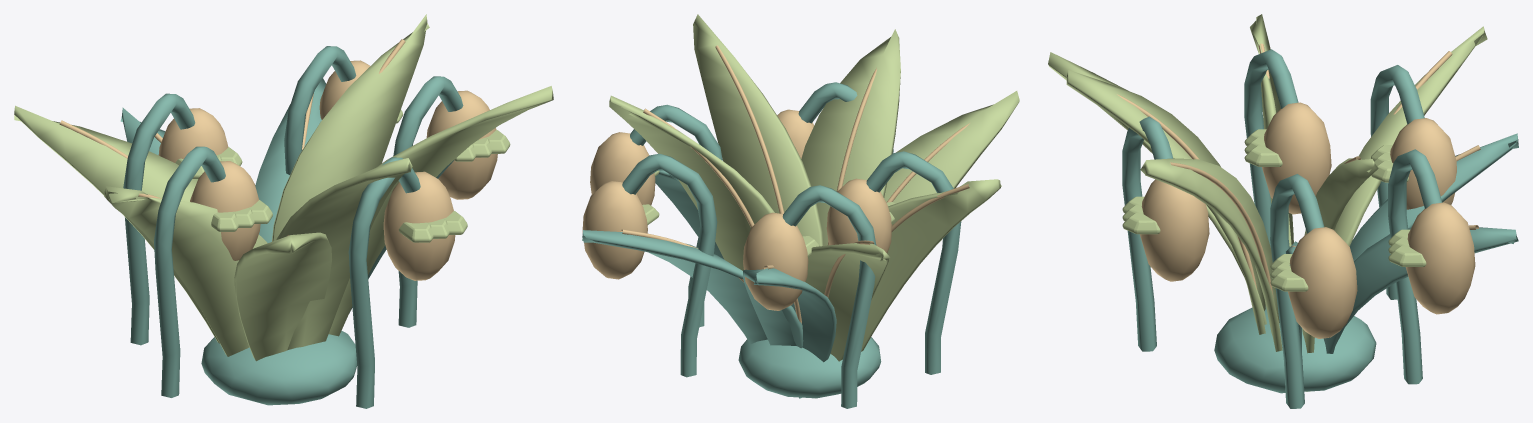
The model's file is bio_mist_leaf_08_far.glb.
3 views of the same model, side by side, from view 1: azimuth 30°, elevation 25°; view 2: azimuth 150°, elevation 25°; view 3: azimuth 270°, elevation 25° (orthographic). The views are drawn at different scales.
Visible parts, largest first — view 1: Cupped condensate leaf.008, Cupped condensate leaf.007, Cupped condensate leaf.004, Root rosette, Cupped condensate leaf.002, Cupped condensate leaf.001, Arched fruit stem.004, Cupped condensate leaf.005, Pendant spore capsule.002, Arched fruit stem.002, Arched fruit stem.001, Pendant spore capsule.004 (+10 smaller); view 2: Cupped condensate leaf.005, Cupped condensate leaf.002, Cupped condensate leaf.008, Cupped condensate leaf.004, Cupped condensate leaf.007, Root rosette, Cupped condensate leaf.003, Arched fruit stem.003, Arched fruit stem.001, Cupped condensate leaf.006, Pendant spore capsule.001, Arched fruit stem.004 (+13 smaller); view 3: Root rosette, Pendant spore capsule, Pendant spore capsule.003, Cupped condensate leaf.005, Pendant spore capsule.002, Cupped condensate leaf.002, Arched fruit stem, Pendant spore capsule.004, Arched fruit stem.003, Arched fruit stem.002, Cupped condensate leaf.001, Arched fruit stem.004 (+14 smaller).
Part boxes in pixels (left/top/right/bottom): Cupped condensate leaf.008: left=272, top=14, right=429, bottom=241; Cupped condensate leaf.007: left=234, top=232, right=331, bottom=361; Cupped condensate leaf.004: left=104, top=186, right=267, bottom=356; Root rosette: left=201, top=330, right=357, bottom=405; Cupped condensate leaf.002: left=276, top=158, right=412, bottom=350; Cupped condensate leaf.001: left=14, top=105, right=219, bottom=343; Arched fruit stem.004: left=154, top=146, right=225, bottom=397; Cupped condensate leaf.005: left=328, top=86, right=553, bottom=336; Pendant spore capsule.002: left=383, top=171, right=455, bottom=280; Arched fruit stem.002: left=348, top=157, right=420, bottom=408; Arched fruit stem.001: left=123, top=93, right=195, bottom=345; Pendant spore capsule.004: left=190, top=161, right=260, bottom=260; Cupped condensate leaf.005: left=693, top=14, right=823, bottom=246; Cupped condensate leaf.002: left=801, top=29, right=900, bottom=245; Cupped condensate leaf.008: left=609, top=95, right=774, bottom=270; Cupped condensate leaf.004: left=861, top=179, right=1001, bottom=351; Cupped condensate leaf.007: left=884, top=91, right=1019, bottom=203; Root rosette: left=738, top=337, right=881, bottom=398; Cupped condensate leaf.003: left=582, top=230, right=803, bottom=348; Arched fruit stem.003: left=622, top=153, right=717, bottom=377; Arched fruit stem.001: left=782, top=185, right=876, bottom=408; Cupped condensate leaf.006: left=743, top=268, right=836, bottom=398; Pendant spore capsule.001: left=743, top=212, right=808, bottom=310; Arched fruit stem.004: left=866, top=151, right=961, bottom=374; Root rosette: left=1214, top=306, right=1376, bottom=393; Pendant spore capsule: left=1288, top=227, right=1357, bottom=338; Pendant spore capsule.003: left=1405, top=202, right=1475, bottom=314; Cupped condensate leaf.005: left=1140, top=158, right=1282, bottom=351; Pendant spore capsule.002: left=1140, top=179, right=1209, bottom=281; Cupped condensate leaf.002: left=1066, top=70, right=1265, bottom=334; Arched fruit stem: left=1270, top=174, right=1324, bottom=408; Pendant spore capsule.004: left=1262, top=102, right=1331, bottom=214; Arched fruit stem.003: left=1388, top=149, right=1442, bottom=384; Arched fruit stem.002: left=1122, top=116, right=1172, bottom=351; Cupped condensate leaf.001: left=1334, top=26, right=1487, bottom=246; Arched fruit stem.004: left=1244, top=49, right=1298, bottom=247.
Bounding box in the file's own units: 1.83 × 1.3 × 1.74.
